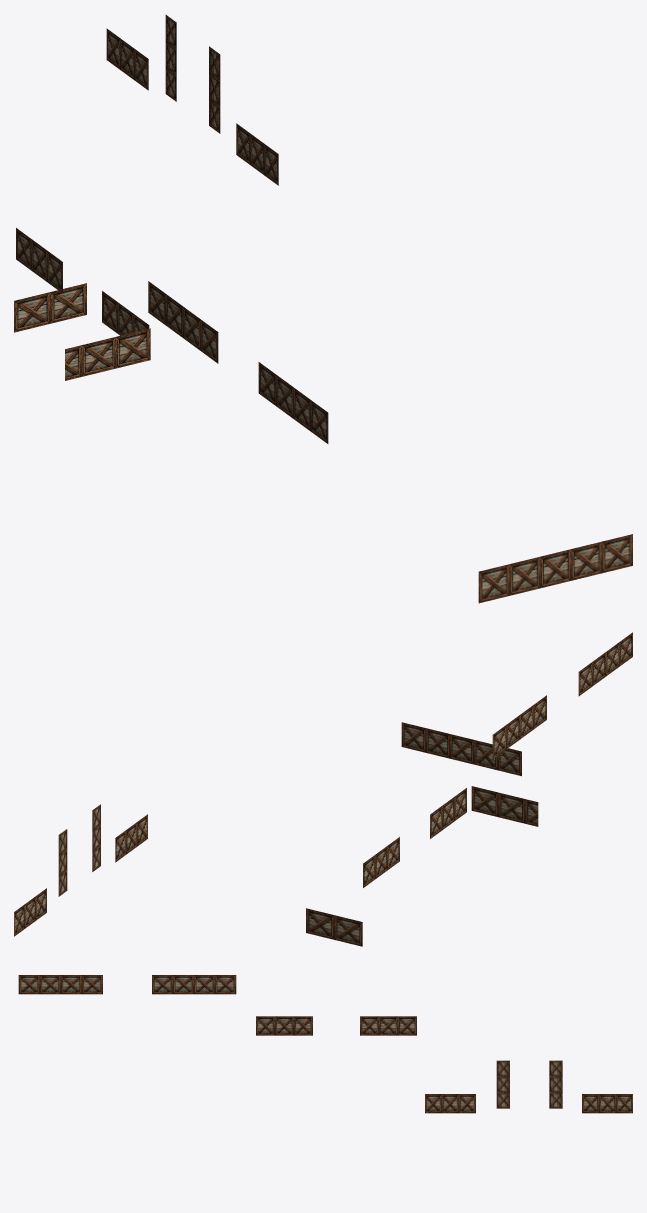
The model's file is LAKETOWN_EXTERIOR_PS_LT_PANELS8770059.fbx.
3 views of the same model, one above another, from view 1: azimuth 30°, elevation 25°; view 2: azimuth 150°, elevation 25°; view 3: azimuth 270°, elevation 25° (orthographic). The views are drawn at different scales.
Visible parts, largest first — view 1: LAKETOWN_EXTERIOR_PS_LT_PANELS8770059; view 2: LAKETOWN_EXTERIOR_PS_LT_PANELS8770059; view 3: LAKETOWN_EXTERIOR_PS_LT_PANELS8770059.
Part boxes in pixels (x1=…): LAKETOWN_EXTERIOR_PS_LT_PANELS8770059: x1=14, y1=15, x2=632, y2=603; LAKETOWN_EXTERIOR_PS_LT_PANELS8770059: x1=14, y1=632, x2=632, y2=946; LAKETOWN_EXTERIOR_PS_LT_PANELS8770059: x1=18, y1=975, x2=632, y2=1113.
Size of the model in its own units: 125263 by 71995 by 298890.
1 material, 1 textured.
